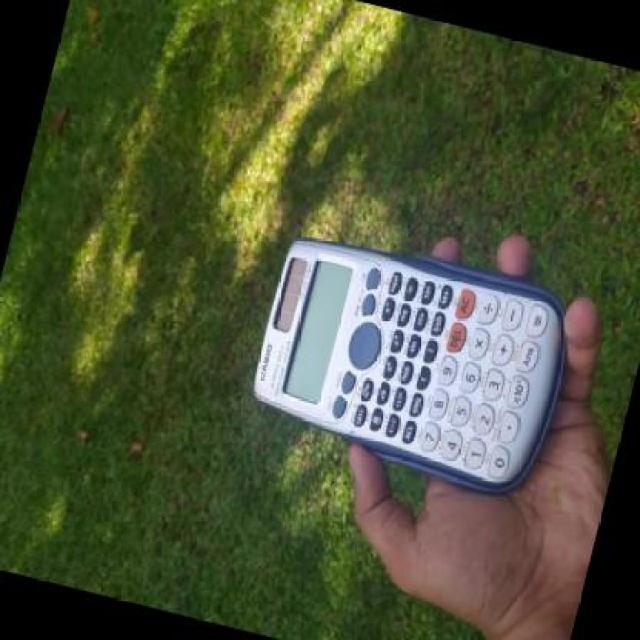Calculator: (235, 208, 587, 500)
